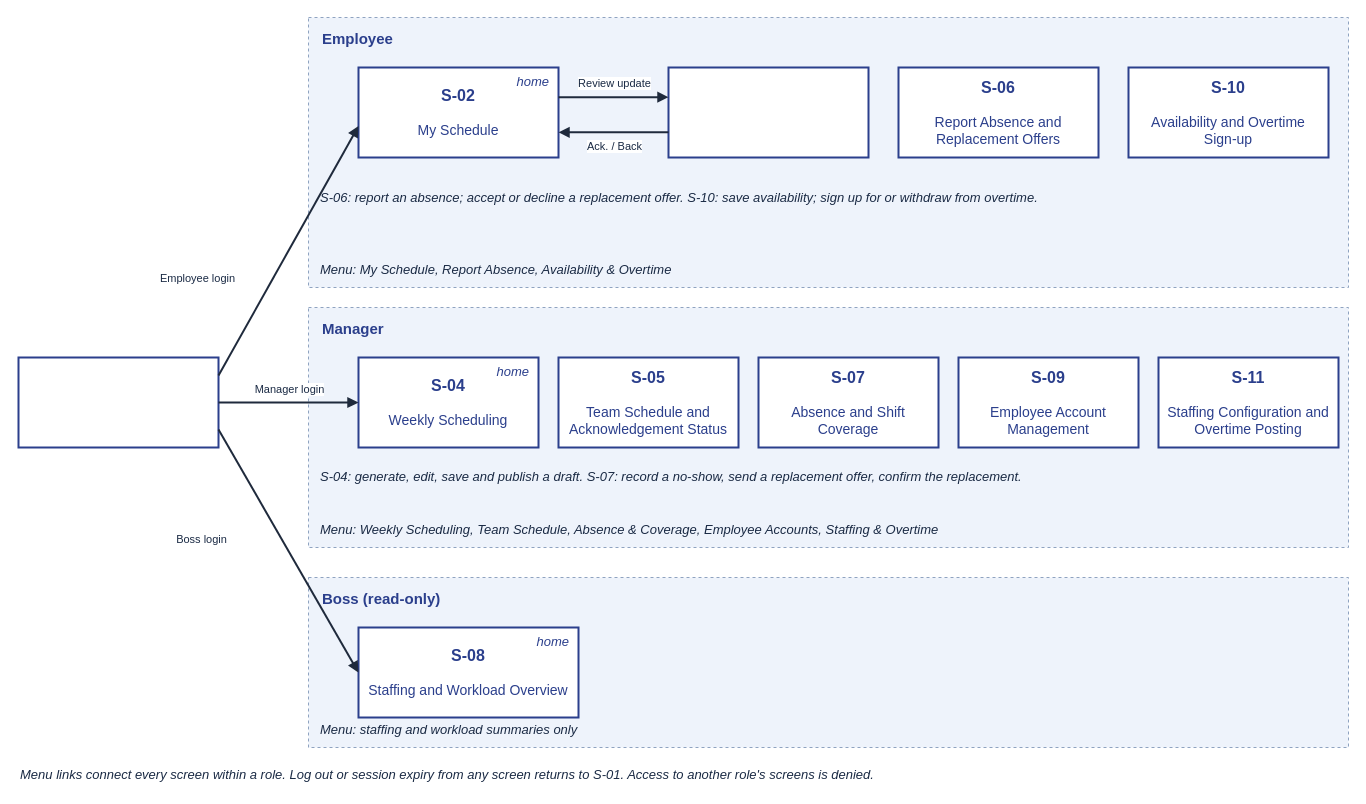
This 1366x804 diagram has some shape labels left out. Here are the shapes that lost their labels. From the top down, the centre of each, then its label:
At point 768,112: "S-03 Schedule Update and Acknowledgement".
At point 118,402: "S-01 Login".
